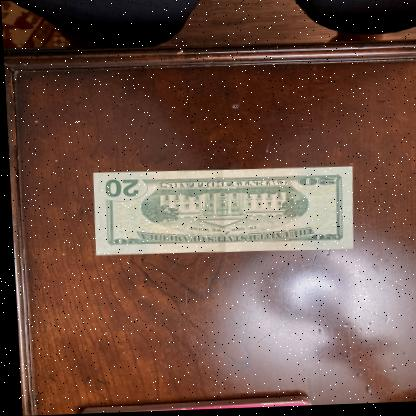twenty-back: (88, 165, 353, 258)
